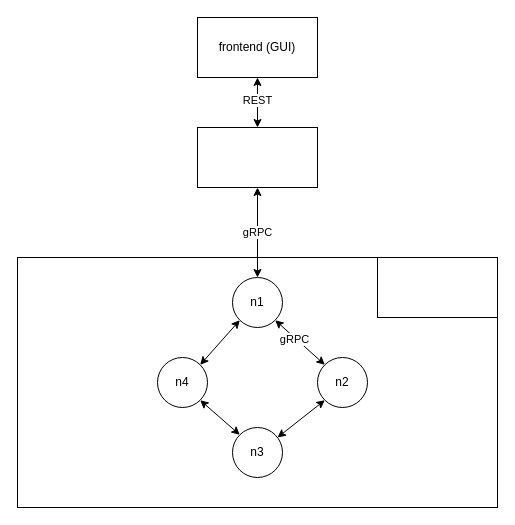
Image size: 515x525. Some labels were removed from this diagram. The shapes that lost their labels are listed below. From the top down, each one's centre as x and y in pixels, then its label:
At point 257,157: "Backend (Node Controller)".
At point 437,287: "Network n node".
